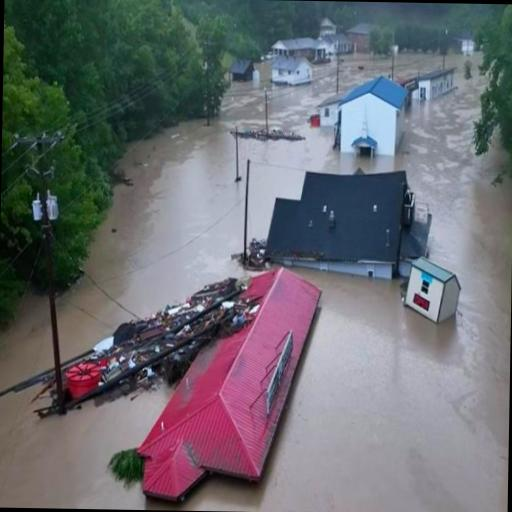flood: (0, 53, 512, 512), (58, 83, 264, 360), (0, 294, 52, 390), (341, 56, 391, 89), (397, 54, 441, 75), (254, 60, 272, 84)
house: (136, 263, 321, 512), (252, 168, 406, 294), (330, 74, 404, 164), (403, 254, 463, 328), (414, 66, 459, 98), (273, 36, 326, 62), (272, 56, 314, 84), (350, 22, 376, 55), (230, 55, 254, 82), (326, 32, 350, 55)
